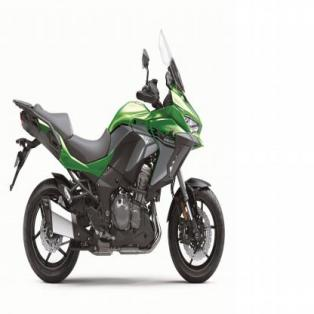Motocicleta: (10, 27, 228, 288)
